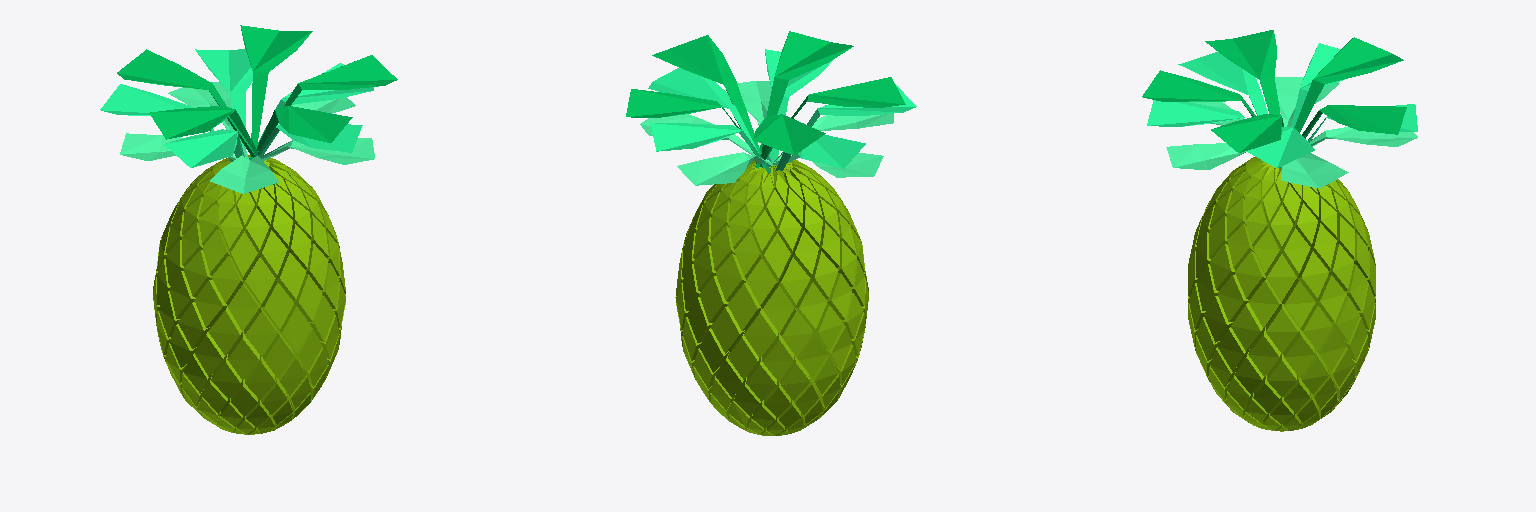
Rendered from pineapple.obj.
3 views of the same model, side by side, from view 1: azimuth 30°, elevation 25°; view 2: azimuth 150°, elevation 25°; view 3: azimuth 270°, elevation 25° (orthographic).
Parts seen in each view (by area): view 1: Sphere, Sphere.001, Sphere.003, Sphere.002; view 2: Sphere, Sphere.001, Sphere.003, Sphere.002; view 3: Sphere, Sphere.001, Sphere.003, Sphere.002.
Part boxes in pixels (x1,y1,x2,y2): Sphere: (153,155,345,434); Sphere.001: (117,25,397,159); Sphere.003: (100,49,373,167); Sphere.002: (120,81,374,193); Sphere: (675,156,868,435); Sphere.001: (626,31,905,168); Sphere.003: (648,49,916,172); Sphere.002: (640,81,893,185); Sphere: (1188,157,1375,431); Sphere.001: (1142,30,1406,167); Sphere.003: (1147,43,1417,167); Sphere.002: (1166,77,1417,188).
Bounding box in the file's own units: 3.32 × 4.51 × 3.28.